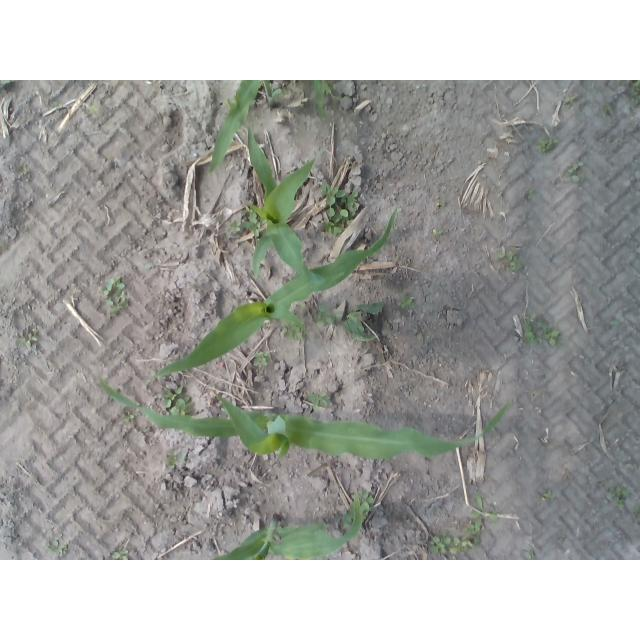Maize: (151, 206, 398, 380), (98, 381, 511, 459), (239, 121, 326, 295), (209, 488, 364, 560), (207, 80, 326, 172)
Weeds: (344, 301, 384, 341), (470, 496, 499, 530), (326, 191, 358, 218), (160, 384, 186, 408), (321, 181, 344, 201), (102, 277, 126, 295), (430, 535, 451, 554), (317, 306, 334, 327), (172, 397, 193, 414), (309, 391, 328, 409), (318, 221, 342, 235), (451, 537, 469, 555), (569, 162, 584, 183), (611, 488, 629, 505), (363, 491, 375, 515), (394, 297, 414, 310), (285, 327, 303, 341), (21, 333, 37, 348), (523, 324, 535, 344), (255, 350, 269, 366), (536, 139, 552, 153), (545, 330, 559, 346), (631, 82, 640, 105), (116, 293, 131, 306), (534, 321, 551, 332), (120, 410, 135, 422), (562, 94, 579, 104), (166, 454, 179, 466), (112, 551, 129, 560), (104, 298, 117, 309), (231, 220, 242, 232), (607, 102, 618, 114), (468, 524, 481, 534), (47, 539, 58, 549), (523, 314, 535, 323), (511, 262, 522, 271), (57, 546, 68, 555), (247, 212, 257, 221), (146, 262, 155, 271), (545, 491, 554, 500), (433, 229, 444, 236), (527, 189, 534, 199), (510, 252, 517, 261), (610, 320, 619, 327), (497, 254, 503, 261), (440, 201, 445, 206)
